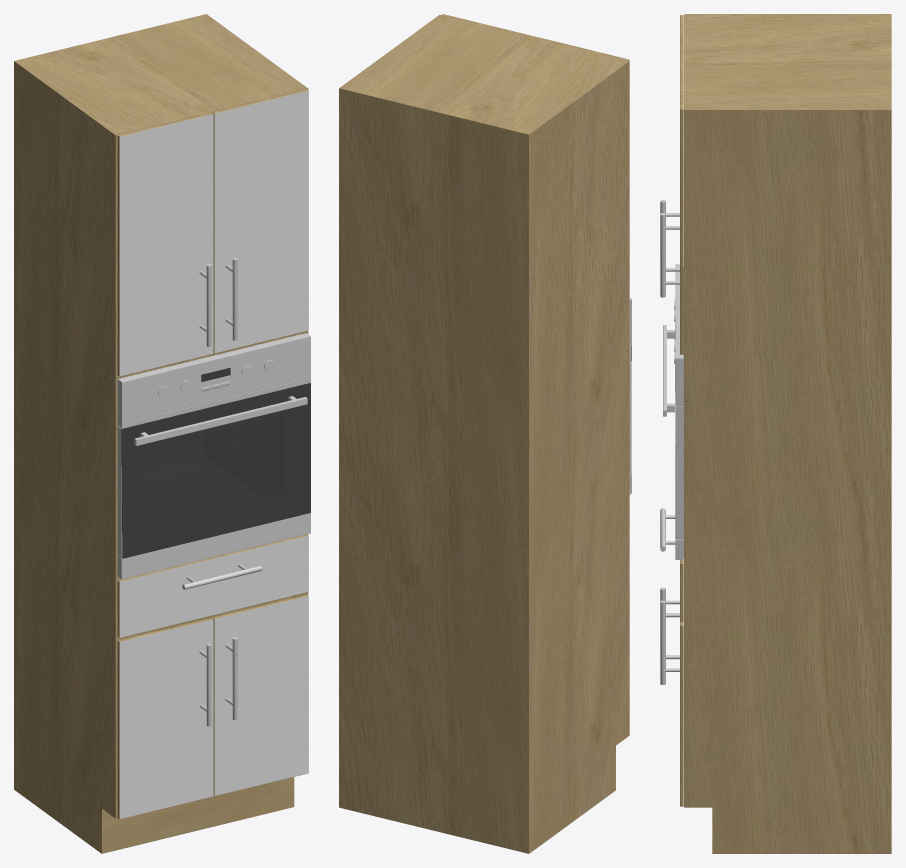
The model's file is sh_blend_swap_cc_0_highcabinet.glb.
The picture shows the model from 3 angles, left to right: view 1: azimuth 30°, elevation 25°; view 2: azimuth 150°, elevation 25°; view 3: azimuth 270°, elevation 25°; orthographic projection. The views are drawn at different scales.
Bounding box in the file's own units: 0.6 × 2.17 × 0.612.
13 materials, 5 textured.
